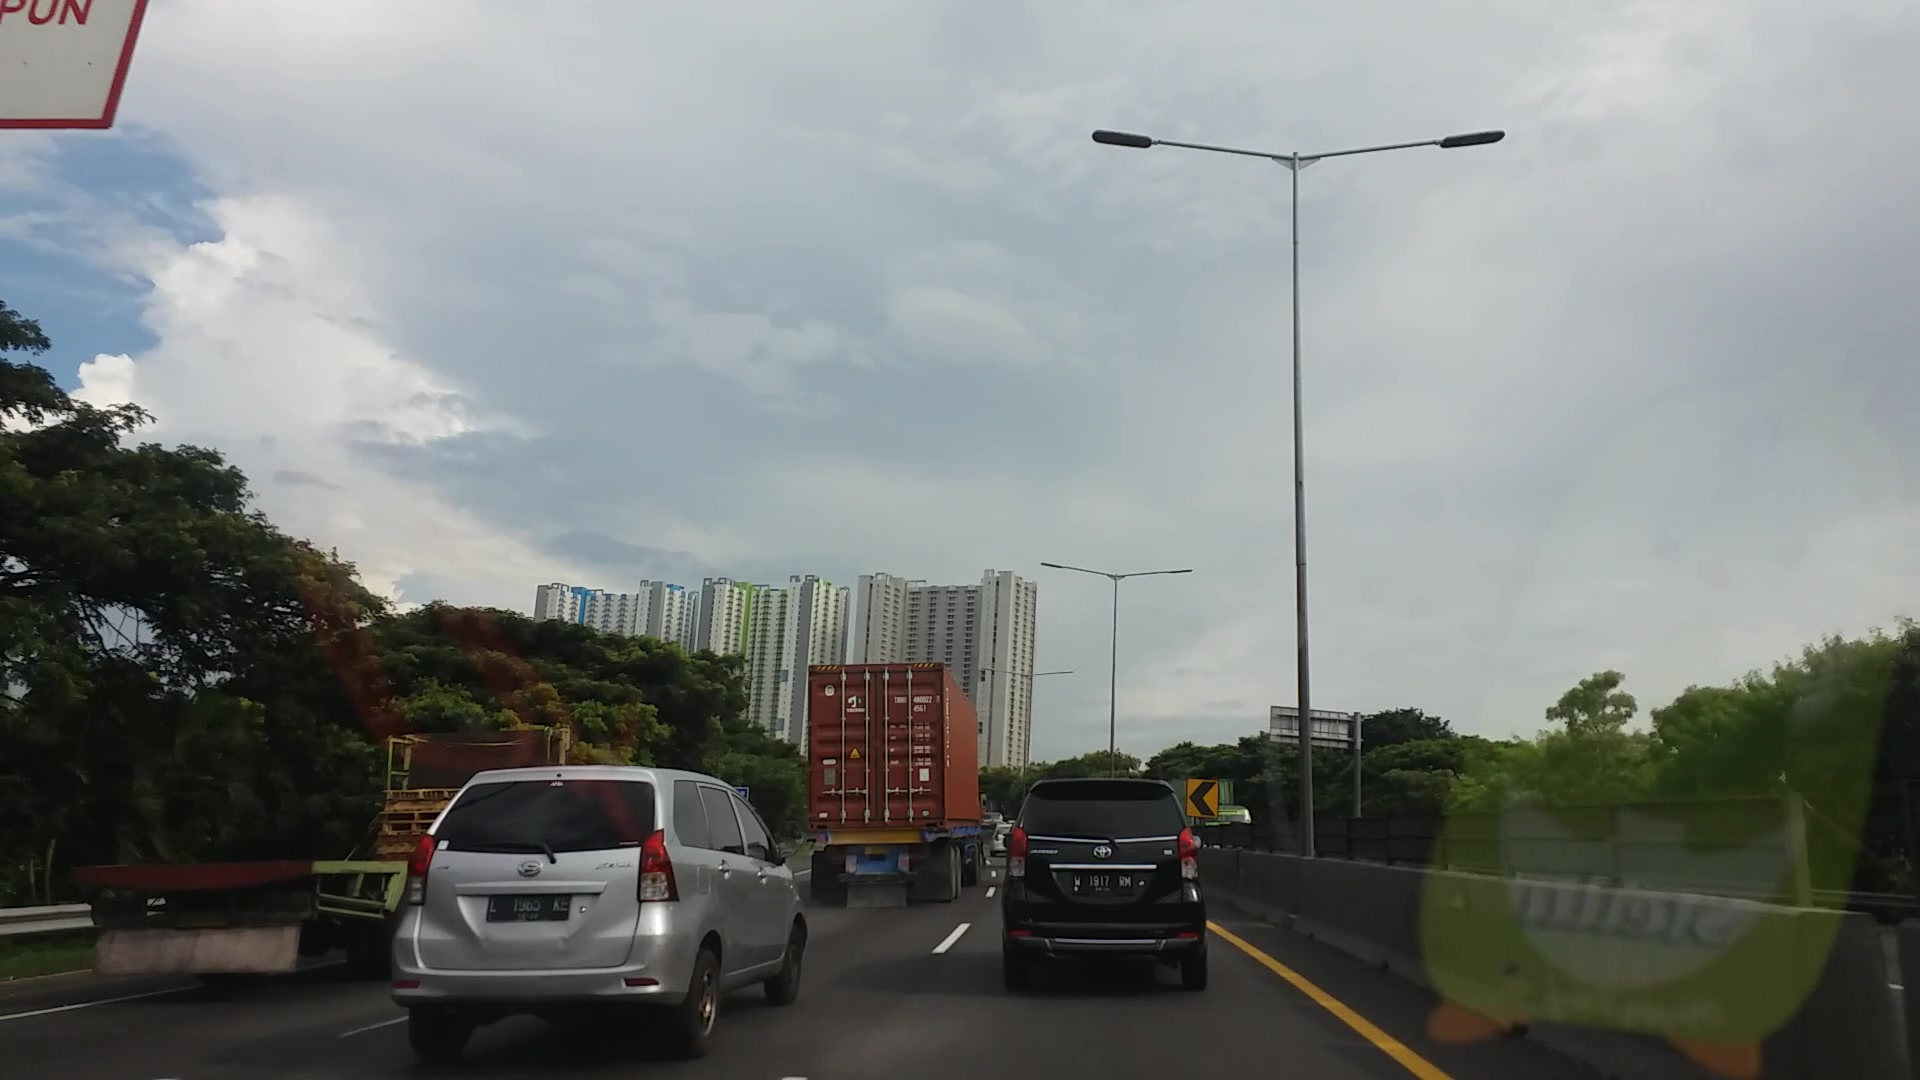plate_positive: (487, 894, 570, 920), (1071, 872, 1134, 894)
